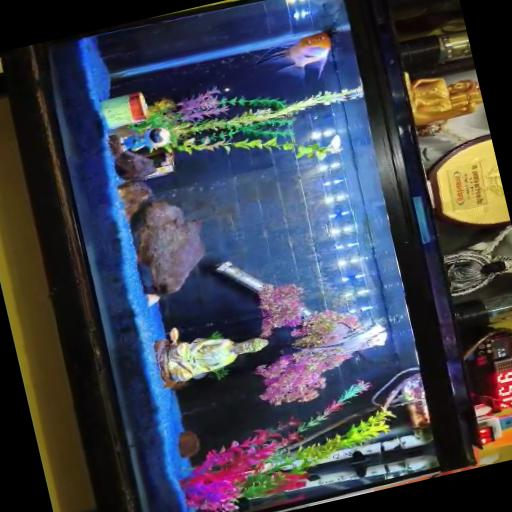Fish: (255, 31, 331, 78)
